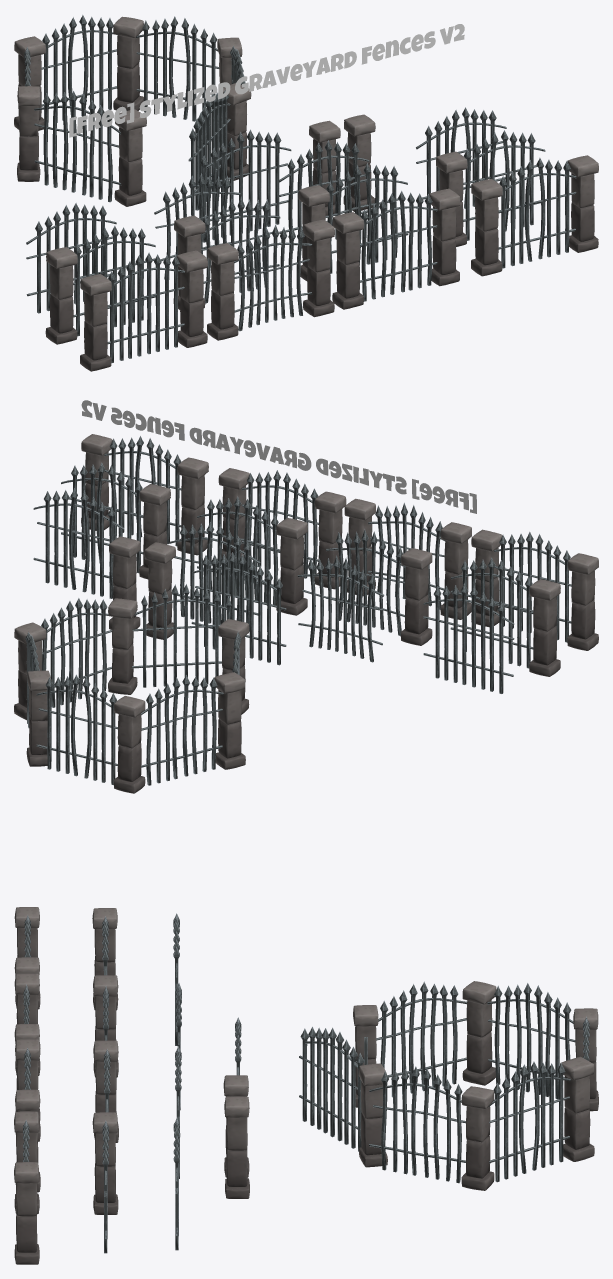
Rendered from StylizedGraveyardFencesV2.fbx.
3 renders of one model, top to bottom at view 1: azimuth 30°, elevation 25°; view 2: azimuth 150°, elevation 25°; view 3: azimuth 270°, elevation 25°, orthographic. The views are drawn at different scales.
Parts seen in each view (by area): view 1: Example3, StoneFence_04, StoneFence_03, StoneFence_01, StoneFence_02, StoneFence_NoPost_01, Text.001, StoneFence_NoPost_04, StoneFence_NoPost_03, FenceGate, StoneFence_NoPost_02, MetalFence_01.001 (+5 smaller); view 2: Example3, StoneFence_01, StoneFence_04, StoneFence_03, StoneFence_02, StoneFence_NoPost_02, StoneFence_NoPost_01, StoneFence_NoPost_03, Text.001, StoneFence_NoPost_04, MetalFence_01.001, MetalFence_04.001 (+5 smaller); view 3: Example3, StoneFence_04, StoneFence_NoPost_04, StonePost, StoneFence_03, StoneFence_NoPost_03, StoneFence_02, StoneFence_01, StoneFence_NoPost_01, StoneFence_NoPost_02, StoneGatePost, MetalFence_04.001.
Part boxes in pixels (x1=…): Example3: x1=14, y1=14, x2=251, y2=214; StoneFence_04: x1=471, y1=155, x2=598, y2=276; StoneFence_03: x1=332, y1=188, x2=460, y2=309; StoneFence_01: x1=80, y1=250, x2=207, y2=371; StoneFence_02: x1=207, y1=219, x2=334, y2=340; StoneFence_NoPost_01: x1=45, y1=225, x2=155, y2=344; Text.001: x1=69, y1=24, x2=464, y2=137; StoneFence_NoPost_04: x1=436, y1=130, x2=545, y2=246; StoneFence_NoPost_03: x1=298, y1=163, x2=408, y2=280; FenceGate: x1=196, y1=129, x2=291, y2=242; StoneFence_NoPost_02: x1=173, y1=196, x2=280, y2=309; MetalFence_01.001: x1=26, y1=202, x2=116, y2=313; Example3: x1=14, y1=584, x2=249, y2=793; StoneFence_01: x1=471, y1=529, x2=598, y2=650; StoneFence_04: x1=81, y1=434, x2=208, y2=555; StoneFence_03: x1=218, y1=468, x2=346, y2=589; StoneFence_02: x1=344, y1=498, x2=471, y2=619; StoneFence_NoPost_02: x1=326, y1=529, x2=432, y2=645; StoneFence_NoPost_01: x1=450, y1=557, x2=560, y2=676; StoneFence_NoPost_03: x1=197, y1=496, x2=307, y2=615; Text.001: x1=81, y1=400, x2=476, y2=513; StoneFence_NoPost_04: x1=61, y1=462, x2=170, y2=579; MetalFence_01.001: x1=423, y1=583, x2=514, y2=693; MetalFence_04.001: x1=33, y1=488, x2=124, y2=598; Example3: x1=299, y1=981, x2=598, y2=1190; StoneFence_04: x1=14, y1=1111, x2=39, y2=1264; StoneFence_NoPost_04: x1=92, y1=1112, x2=118, y2=1253; StonePost: x1=224, y1=1096, x2=249, y2=1198; StoneFence_03: x1=15, y1=1039, x2=40, y2=1192; StoneFence_NoPost_03: x1=93, y1=1040, x2=118, y2=1142; StoneFence_02: x1=14, y1=973, x2=40, y2=1121; StoneFence_01: x1=14, y1=907, x2=40, y2=1054; StoneFence_NoPost_01: x1=92, y1=908, x2=118, y2=1010; StoneFence_NoPost_02: x1=93, y1=975, x2=118, y2=1077; StoneGatePost: x1=223, y1=1075, x2=249, y2=1177; MetalFence_04.001: x1=173, y1=1118, x2=180, y2=1250.
Size of the model in its own units: 1076 by 384 by 997.
